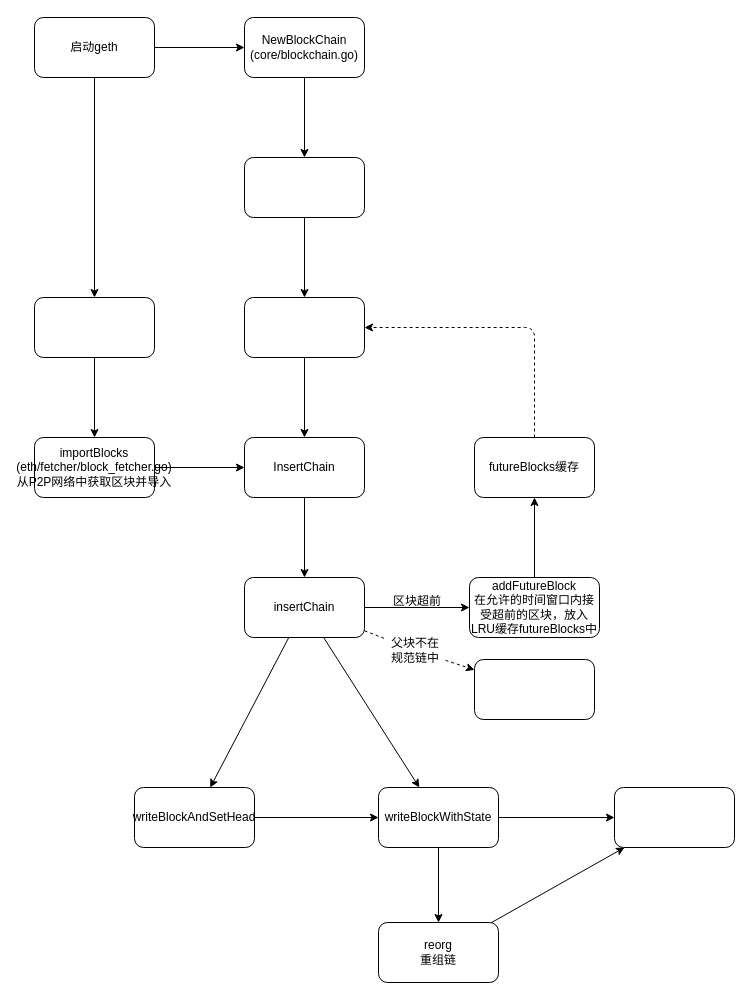
The diagram is 752 pixels wide and 1000 high, and some of its shapes have lost their labels. Here are the shapes that lost their labels. From the top down, the centre of each, then its label:
the point at 304,187: updateFutureBlocks 定时任务每5s处理未来的区块
the point at 94,327: NewBlockFetcher
the point at 304,327: procFutureBlocks 从LRU缓存futureBlocks中读取待处理的区块
the point at 534,689: insertSideChain
the point at 674,817: 将区块难度、区块、交易收据、状态原像集数据写入数据库
